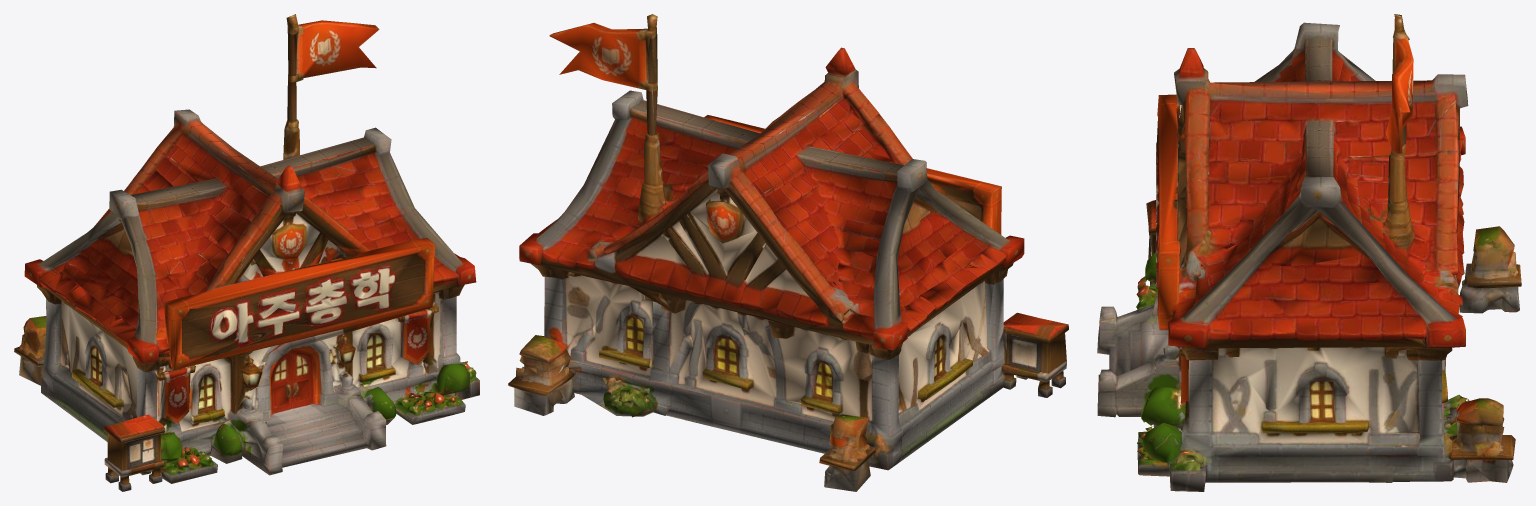
File: project-ajouchong.glb
3 renders of one model, left to right at view 1: azimuth 30°, elevation 25°; view 2: azimuth 150°, elevation 25°; view 3: azimuth 270°, elevation 25°, orthographic. The views are drawn at different scales.
Parts seen in each view (by area): view 1: Mesh1.0; view 2: Mesh1.0; view 3: Mesh1.0.
Boxes of the visible parts, <box> form: Mesh1.0: <box>14,14,479,491</box>; Mesh1.0: <box>508,14,1068,491</box>; Mesh1.0: <box>1097,14,1521,491</box>.
Bounding box in the file's own units: 1.9 × 1.66 × 1.52.
Materials: 1 (1 with a texture image).
